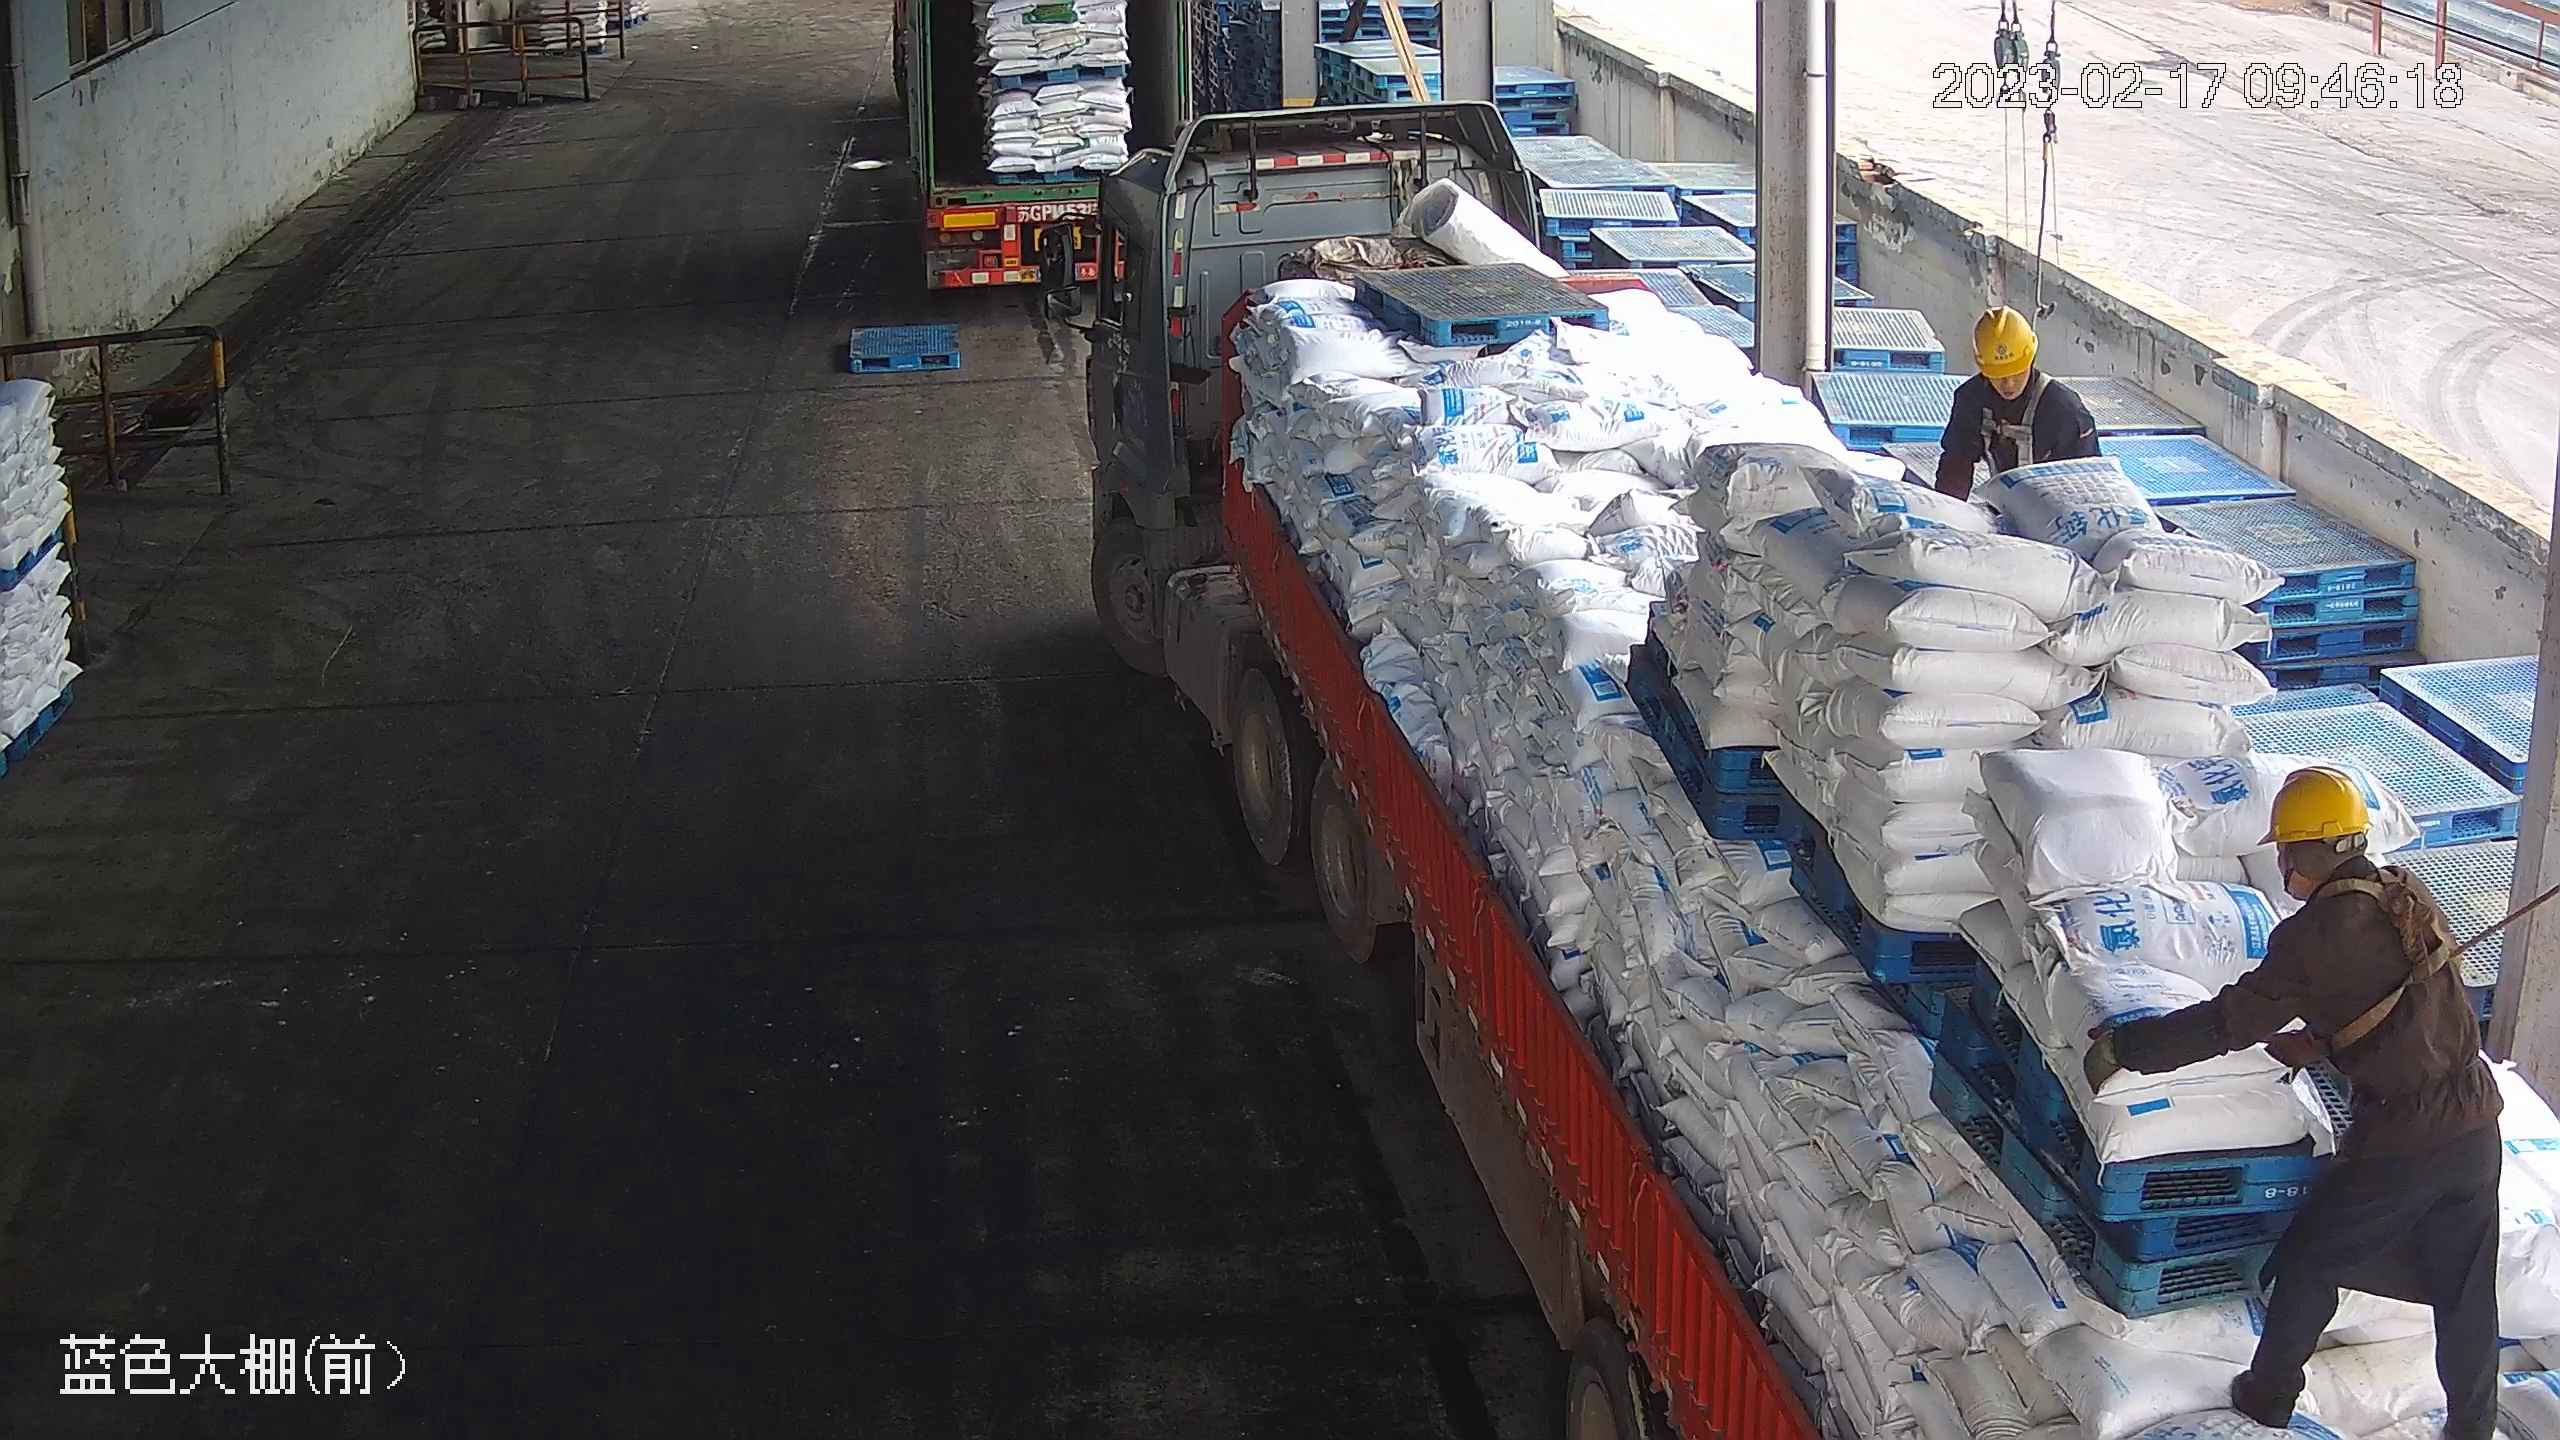belt: (2294, 866, 2484, 1053), (1980, 373, 2052, 471)
head: (2237, 765, 2441, 988), (1941, 298, 2092, 434)
helmet: (2258, 762, 2375, 853), (1967, 299, 2040, 381)
people: (2094, 763, 2503, 1431)
truck: (1068, 153, 2549, 1437), (879, 1, 1220, 341)
